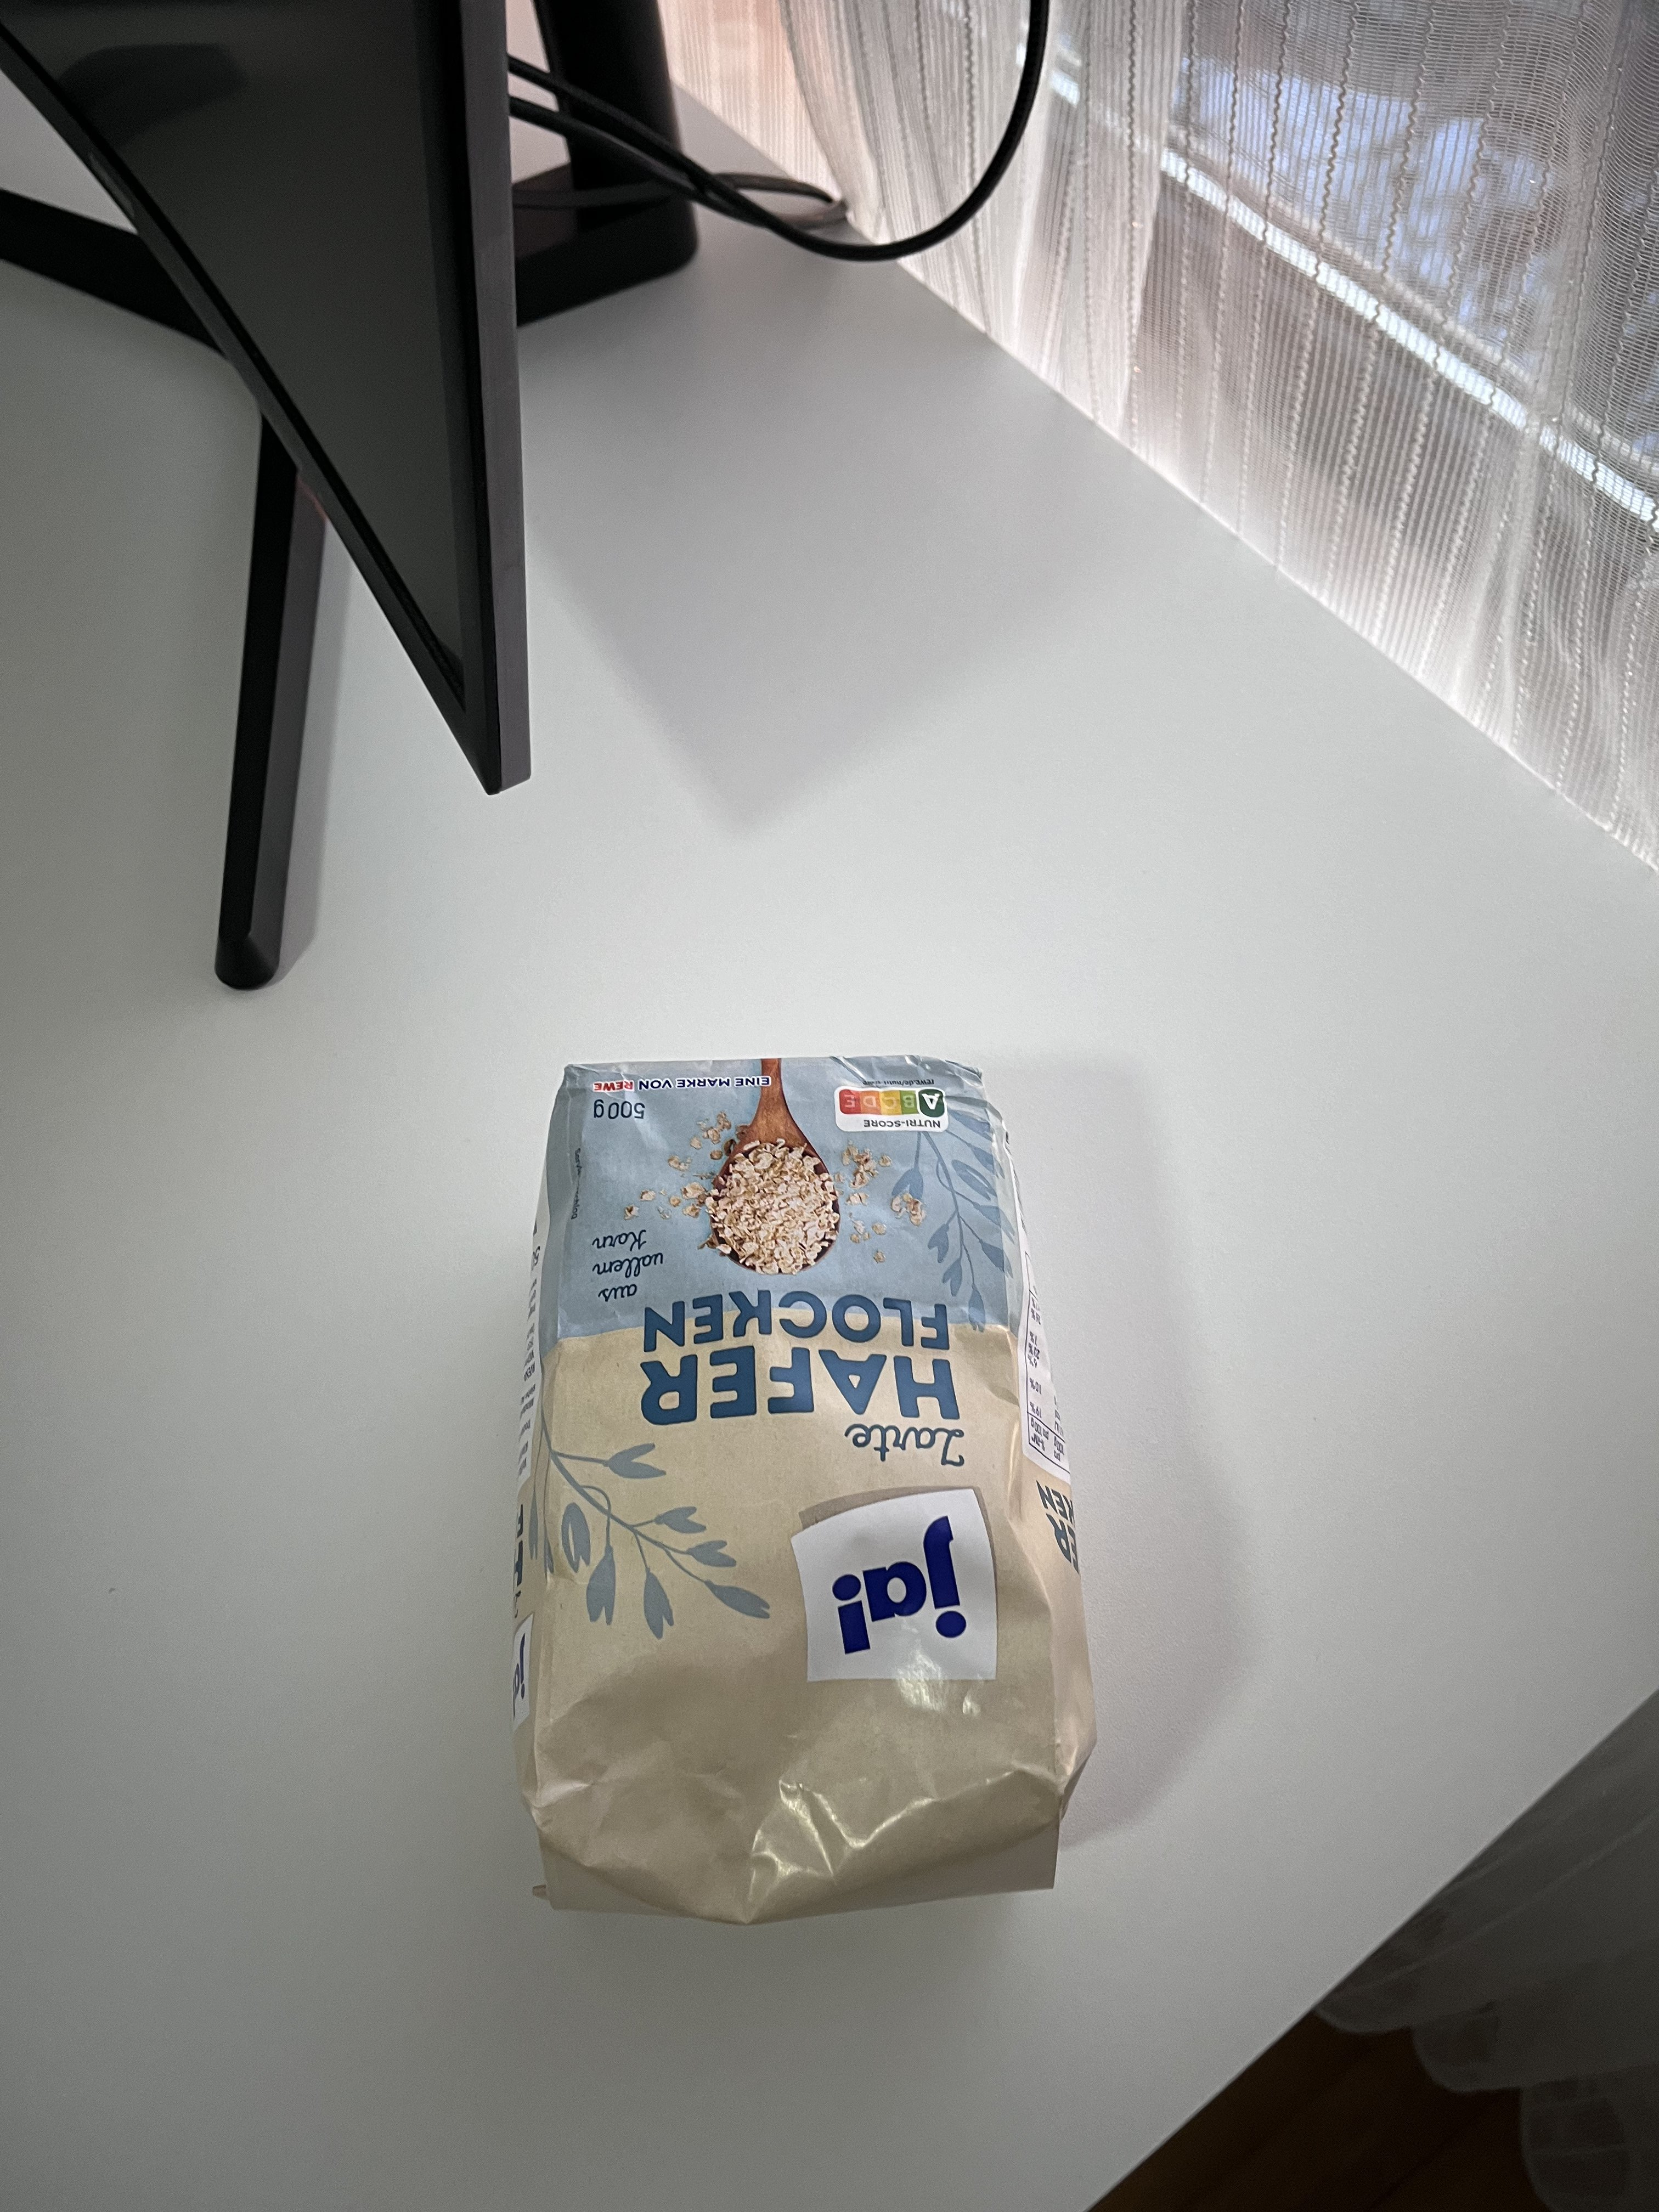haferflocken_ja: (509, 1052, 1091, 1925)
